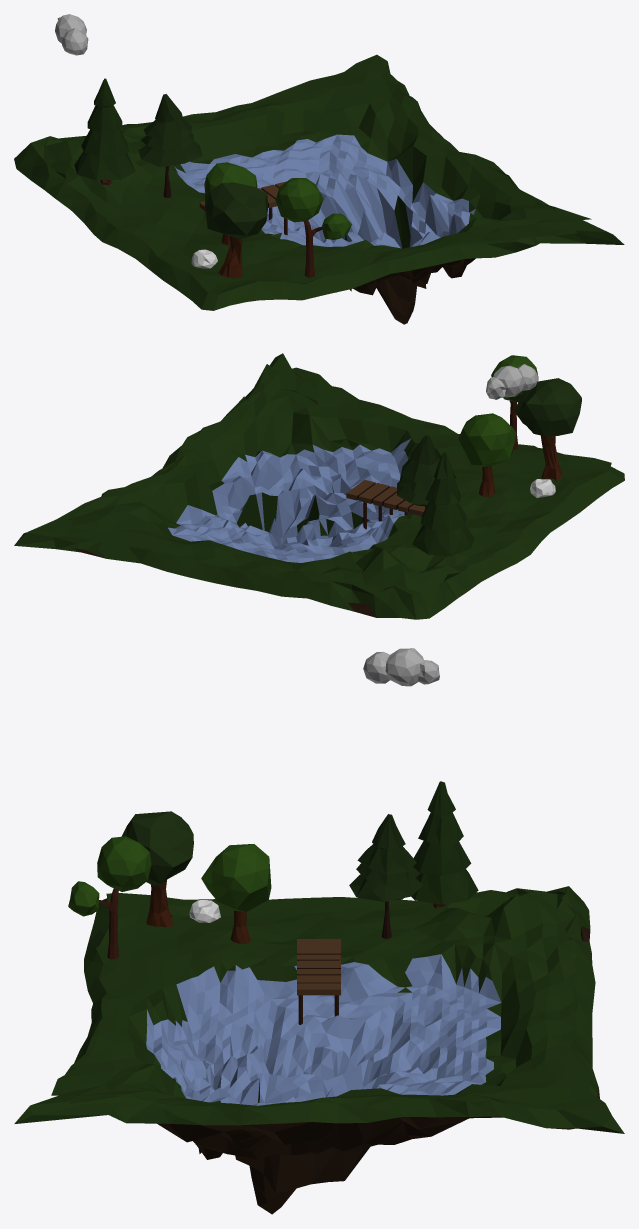
File: tree3.obj
The picture shows the model from 3 angles, top to bottom: view 1: azimuth 30°, elevation 25°; view 2: azimuth 150°, elevation 25°; view 3: azimuth 270°, elevation 25°; orthographic projection. The views are drawn at different scales.
Parts seen in each view (by area): view 1: Plane.003, Cylinder, Icosphere.003, Cylinder.004, Icosphere.002, Icosphere.001, Icosphere, Cylinder.006, Cylinder.005; view 2: Plane.003, Cylinder, Icosphere.003, Icosphere, Cylinder.004, Icosphere.001, Cube_Cube.001, Cylinder.006, Icosphere.002, Icosphere.004, Cylinder.002_Cylinder.003; view 3: Plane.003, Cylinder, Cylinder.004, Icosphere, Icosphere.003, Icosphere.002, Cube_Cube.001, Icosphere.001, Cylinder.006.
Part boxes in pixels (x1=…): Plane.003: x1=14, y1=54, x2=624, y2=324; Cylinder: x1=74, y1=78, x2=135, y2=180; Icosphere.003: x1=205, y1=182, x2=268, y2=239; Cylinder.004: x1=138, y1=94, x2=202, y2=167; Icosphere.002: x1=275, y1=178, x2=351, y2=239; Icosphere.001: x1=55, y1=14, x2=88, y2=55; Icosphere: x1=204, y1=162, x2=257, y2=206; Cylinder.006: x1=217, y1=236, x2=242, y2=278; Cylinder.005: x1=304, y1=220, x2=321, y2=277; Plane.003: x1=14, y1=353, x2=624, y2=619; Cylinder: x1=412, y1=451, x2=474, y2=555; Icosphere.003: x1=514, y1=378, x2=581, y2=436; Icosphere: x1=458, y1=413, x2=516, y2=466; Cylinder.004: x1=397, y1=435, x2=439, y2=506; Icosphere.001: x1=486, y1=364, x2=538, y2=399; Cube_Cube.001: x1=346, y1=480, x2=425, y2=516; Cylinder.006: x1=540, y1=435, x2=562, y2=482; Icosphere.002: x1=491, y1=355, x2=537, y2=402; Icosphere.004: x1=530, y1=479, x2=555, y2=497; Cylinder.002_Cylinder.003: x1=479, y1=466, x2=495, y2=496; Plane.003: x1=14, y1=886, x2=624, y2=1214; Cylinder: x1=411, y1=781, x2=478, y2=904; Cylinder.004: x1=349, y1=814, x2=422, y2=901; Icosphere: x1=201, y1=844, x2=271, y2=911; Icosphere.003: x1=121, y1=811, x2=193, y2=885; Icosphere.002: x1=68, y1=836, x2=151, y2=916; Cube_Cube.001: x1=297, y1=939, x2=340, y2=995; Icosphere.001: x1=363, y1=648, x2=439, y2=686; Cylinder.006: x1=146, y1=879, x2=173, y2=927.
Size of the model in its own units: 20.81 by 16.03 by 22.02.
